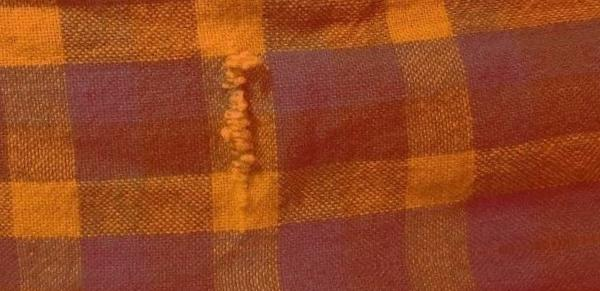knot: (217, 50, 269, 227)
